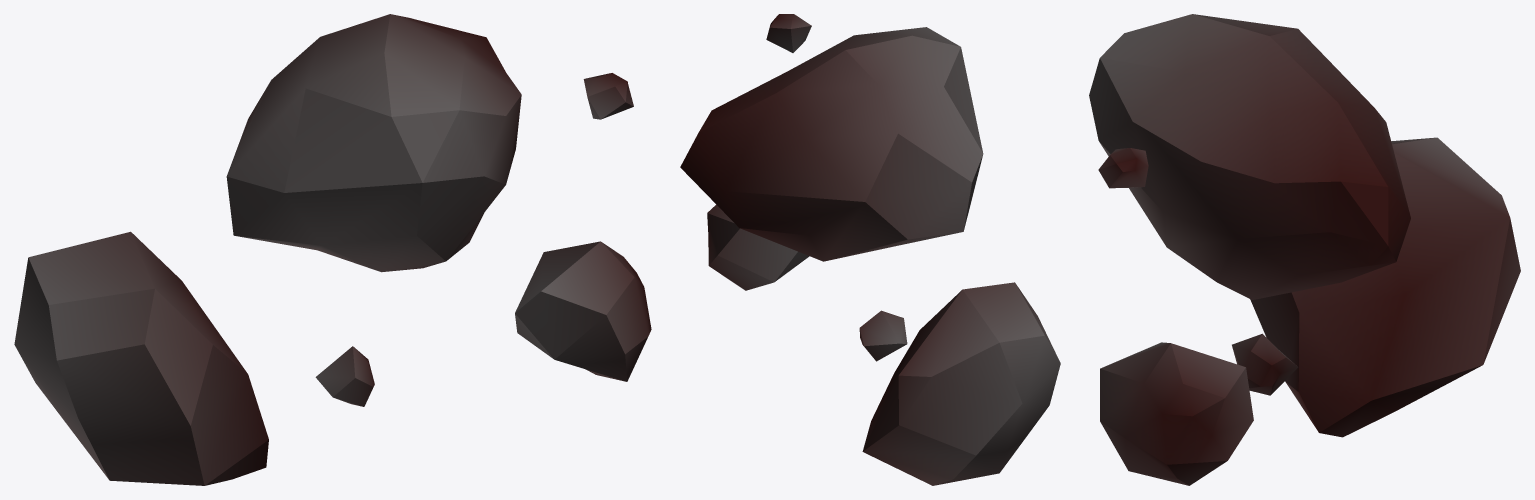
File: AsteridsSibJam.fbx
The picture shows the model from 3 angles, left to right: view 1: azimuth 30°, elevation 25°; view 2: azimuth 150°, elevation 25°; view 3: azimuth 270°, elevation 25°; orthographic projection. The views are drawn at different scales.
Parts seen in each view (by area): view 1: Icosphere.005; view 2: Icosphere.005; view 3: Icosphere.005.
Boxes of the visible parts, left/top/right/bottom form: Icosphere.005: left=14, top=14, right=651, bottom=485; Icosphere.005: left=680, top=14, right=1060, bottom=485; Icosphere.005: left=1089, top=14, right=1520, bottom=485.
Bounding box in the file's own units: 356 × 310 × 262.
